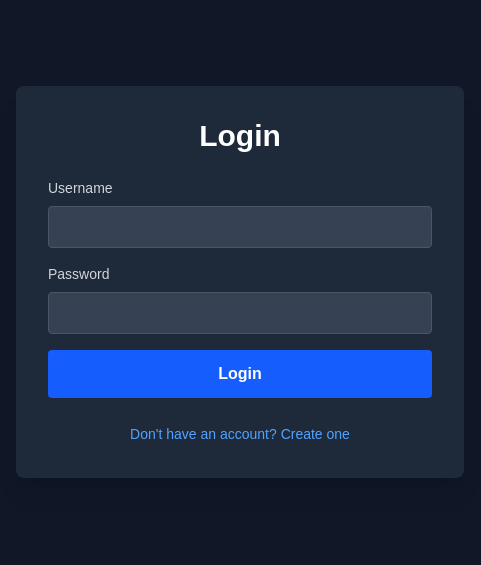
Scenario: Login Page › Register Flow › should validate password match
The image size is (481, 565).
Click the button "Don't have an account? Create one".
click(240, 434)  # box [130,424,350,444]
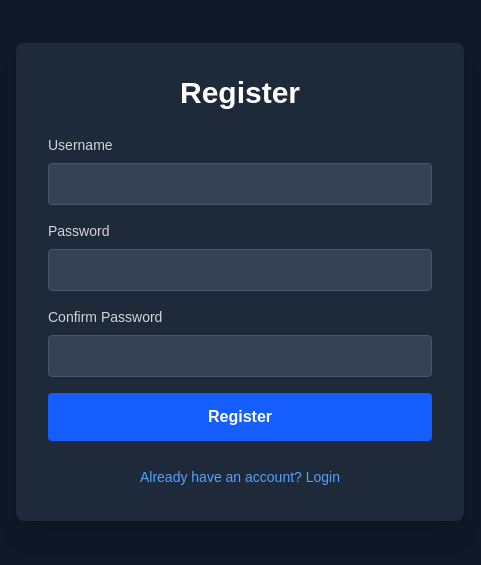
Type "testuser" into the field labelled "Username".
click(240, 184); type("testuser")  # box [48,163,432,205]
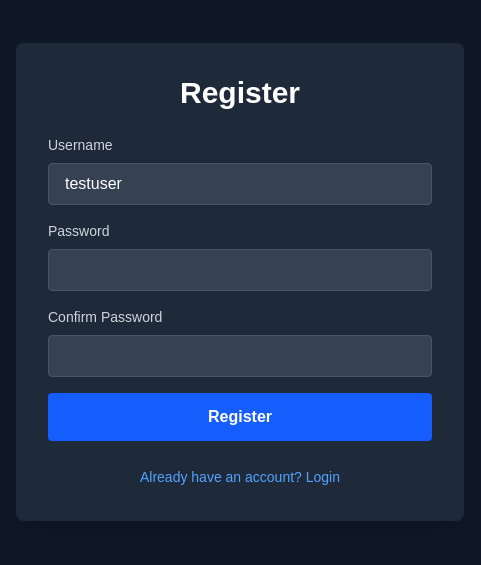
Type "password123" into the password field labelled "Password".
click(240, 270); type("password123")  # box [48,249,432,291]
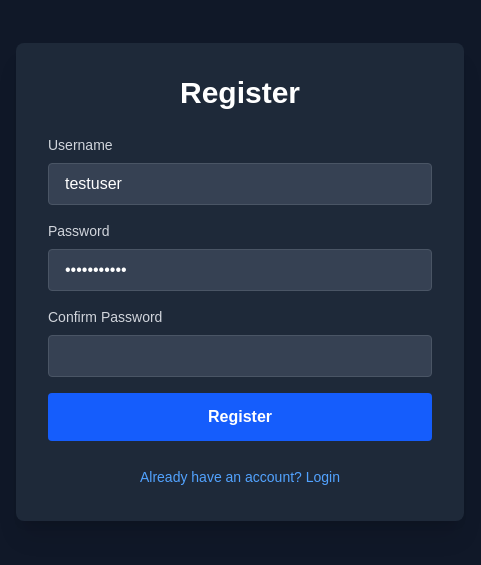
Type "different" into the password field labelled "Confirm Password".
click(240, 356); type("different")  # box [48,335,432,377]
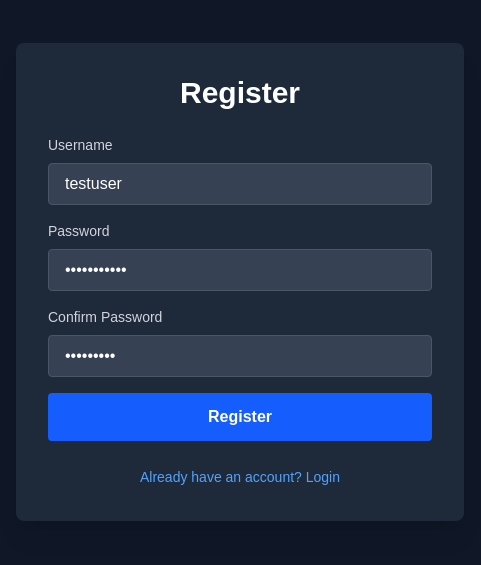
Click the button "Register".
click(240, 417)  # box [48,393,432,441]
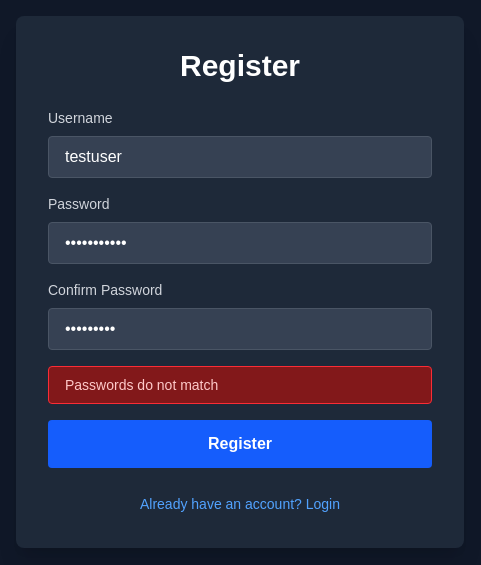
Now the text "Passwords do not match" is shown, box [48,366,432,404]
